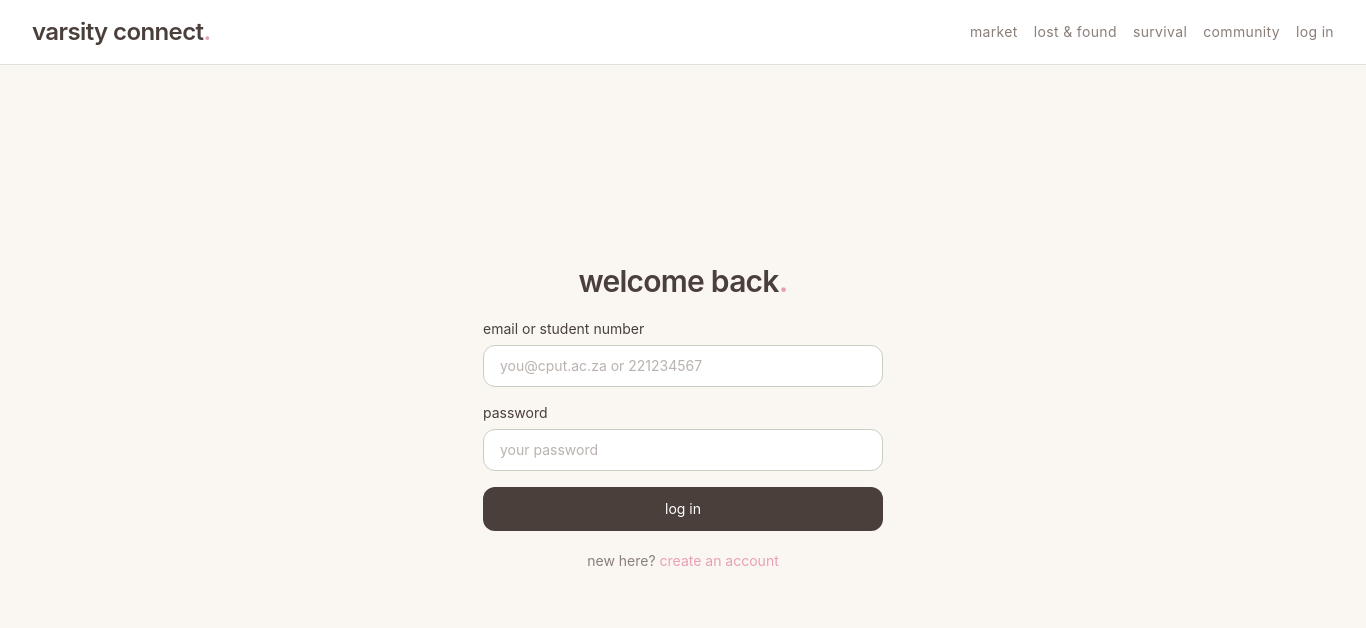
Scenario: login page › logs in and lands on the dashboard
Type "student@cput.ac.za" into the field labelled "email or student number" at (683, 366), box 483,344 -> 883,386
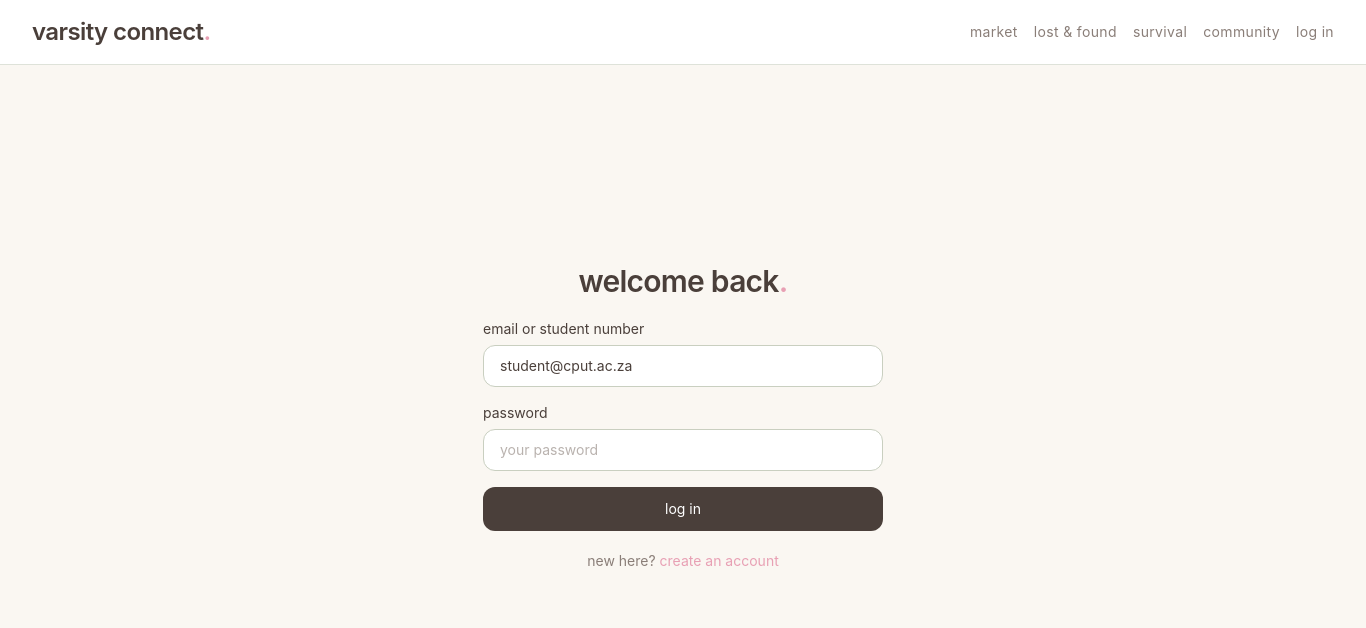
Type "password123" into the password field labelled "password" at (683, 450), box 483,428 -> 883,470
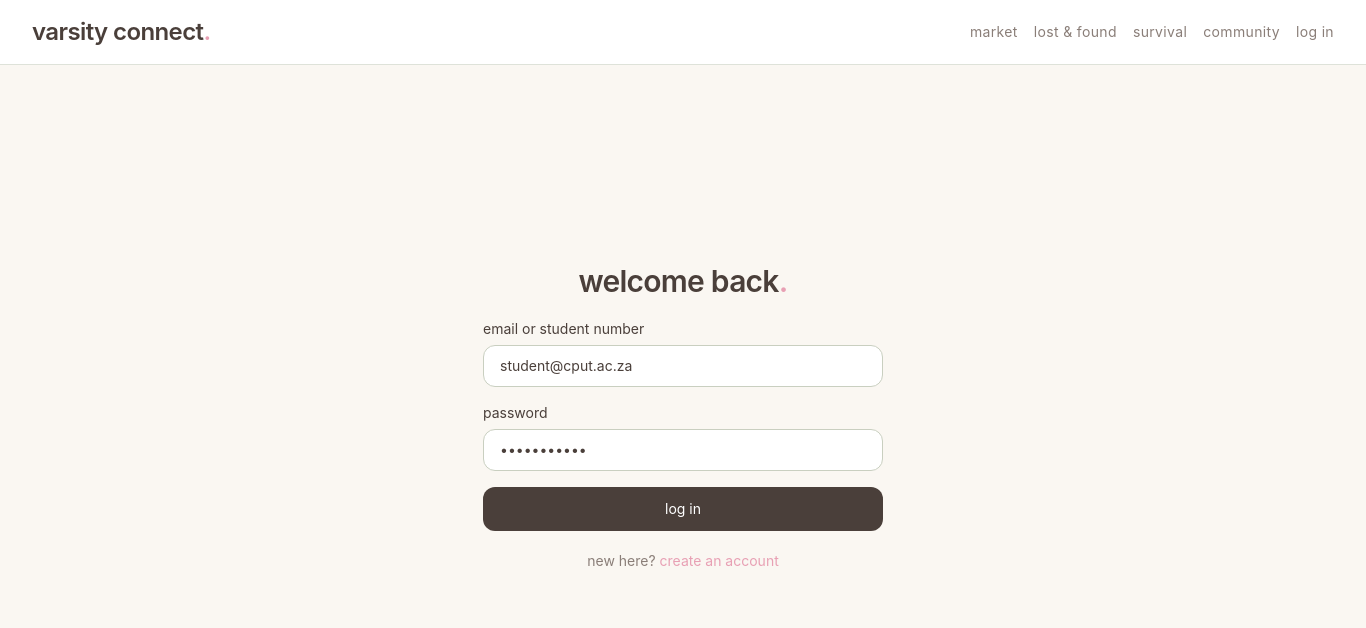
Click the button "log in" at (683, 508), box 483,486 -> 883,530
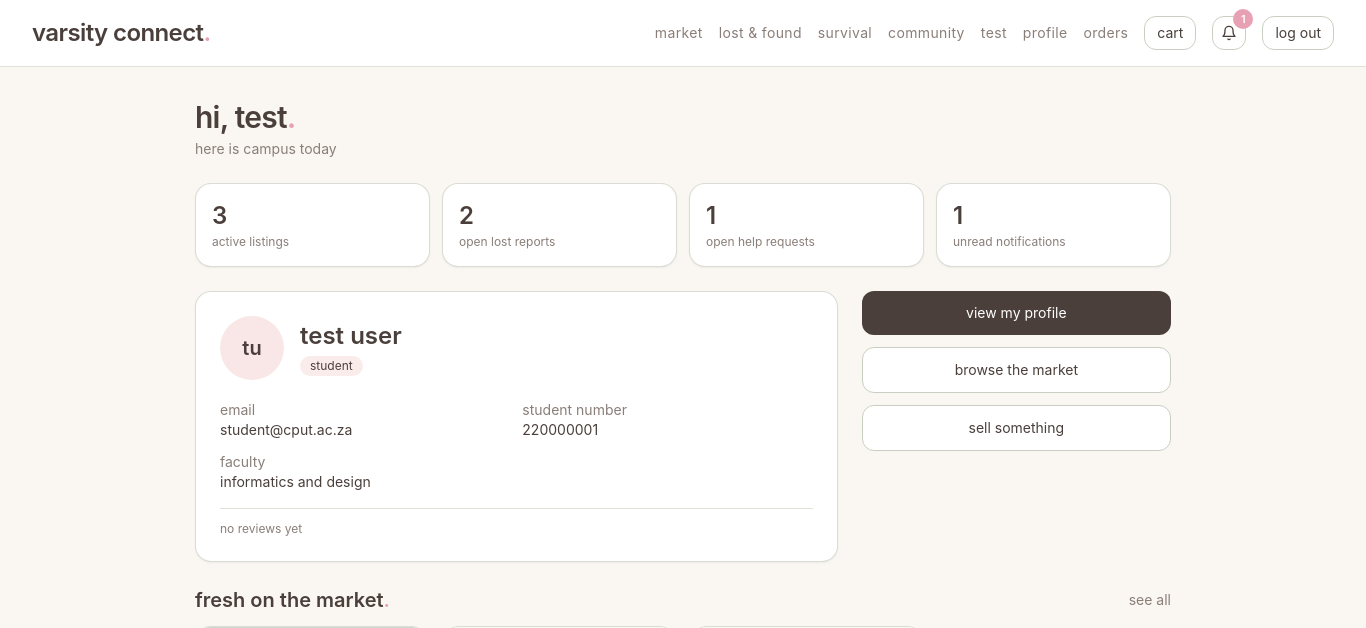
Expected: the heading "hi, test." is shown, 195,99 -> 296,135
